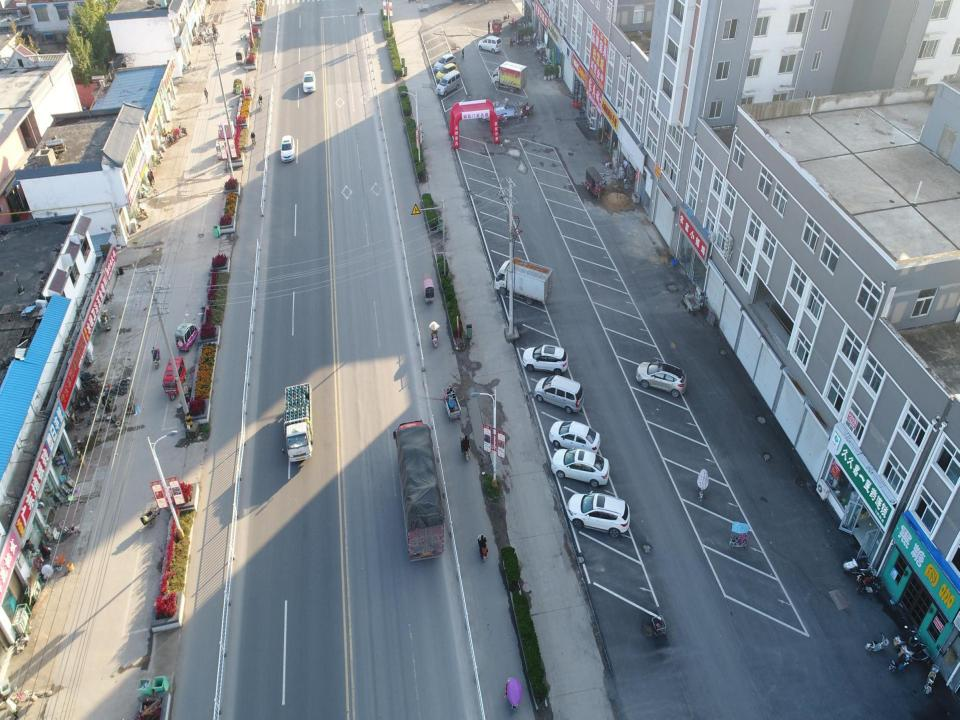car: (564, 490, 632, 538), (551, 447, 609, 487), (635, 358, 687, 397), (534, 374, 584, 413), (548, 418, 601, 454), (522, 345, 568, 376), (279, 135, 297, 163), (478, 34, 502, 53), (434, 63, 458, 82), (433, 54, 456, 72), (302, 70, 317, 94)
truck: (392, 416, 447, 562), (282, 382, 314, 462)
van: (434, 70, 462, 96)
